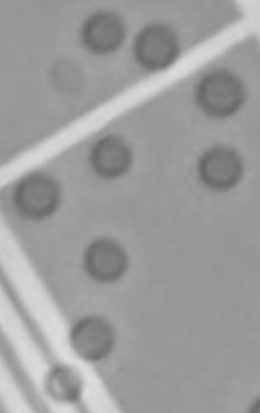cell: (192, 63, 249, 123), (127, 17, 183, 74), (192, 139, 250, 194), (9, 165, 63, 223), (78, 229, 132, 286), (65, 309, 120, 364), (85, 129, 135, 182), (76, 8, 129, 57), (37, 358, 89, 405)
